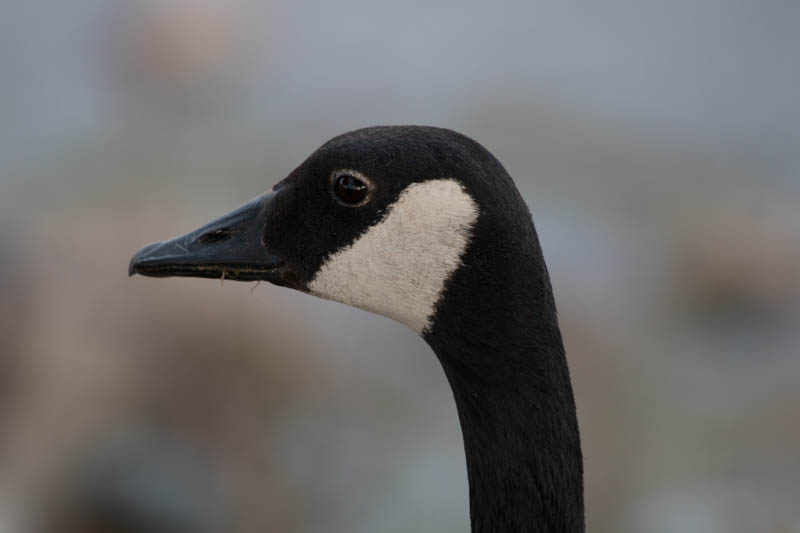goose-head: (127, 123, 558, 339)
